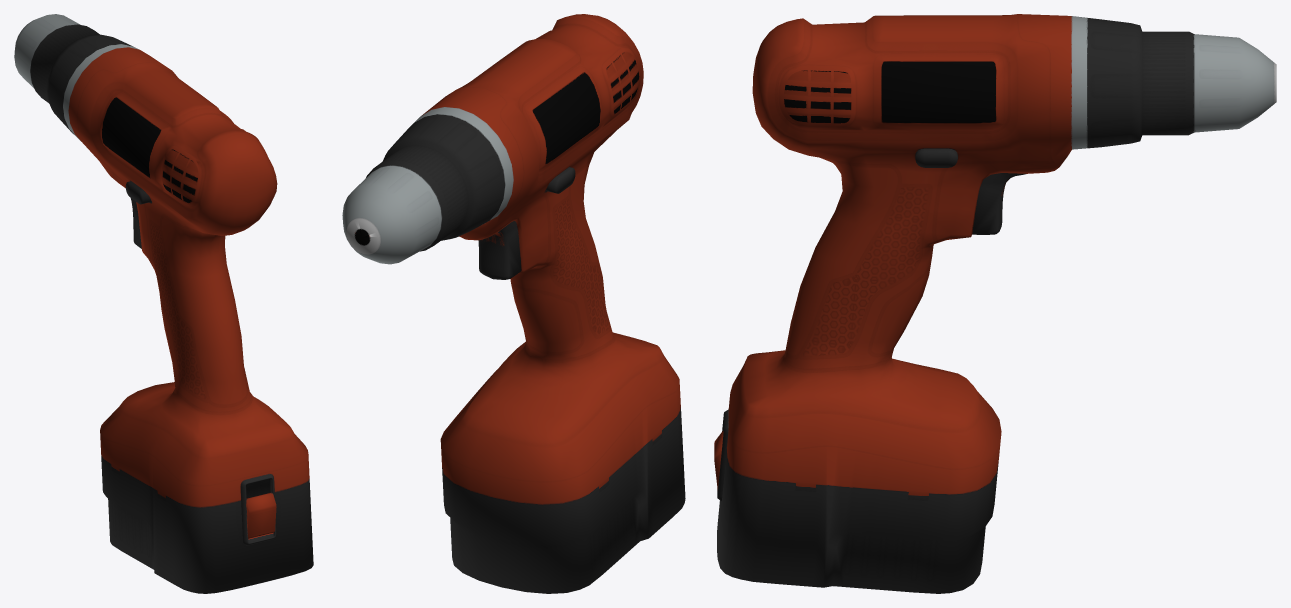
File: drill.dae
The picture shows the model from 3 angles, left to right: view 1: azimuth 30°, elevation 25°; view 2: azimuth 150°, elevation 25°; view 3: azimuth 270°, elevation 25°; orthographic projection. The views are drawn at different scales.
Parts seen in each view (by area): view 1: Cylinder001; view 2: Cylinder001; view 3: Cylinder001.
Part boxes in pixels (<box>): Cylinder001: <box>14,14,313,593</box>; Cylinder001: <box>342,14,685,593</box>; Cylinder001: <box>714,14,1276,593</box>.
Bounding box in the file's own units: 57.82 × 182 × 194.
1 material, 1 textured.
